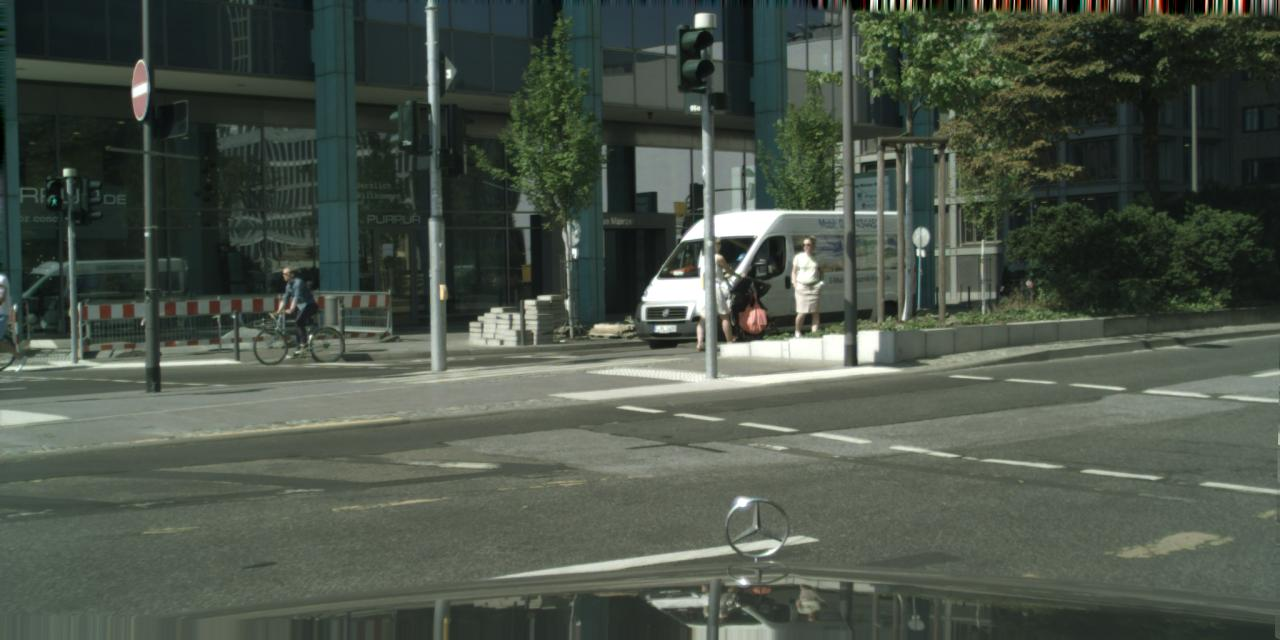ped: (693, 235, 739, 349), (787, 235, 829, 338), (276, 267, 312, 355)
